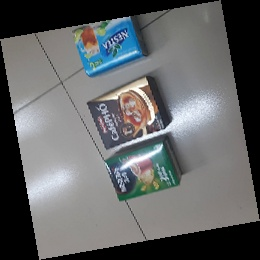CF pho: (85, 77, 172, 149)
Nes Rang: (103, 135, 182, 200)
Nestea: (72, 12, 149, 78)
